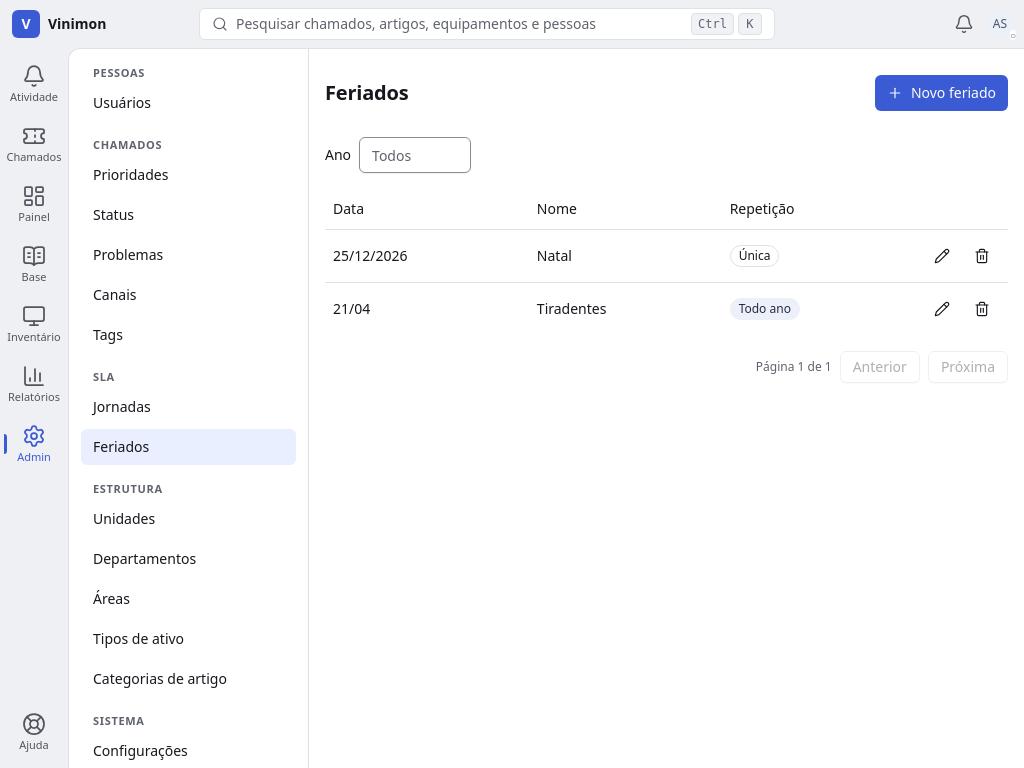
Test case: /admin/feriados › (c) 400 com detalhes aparece no campo
This screenshot has width=1024, height=768.
Click the button named "Editar Natal": (942, 256) [924,238,960,274]
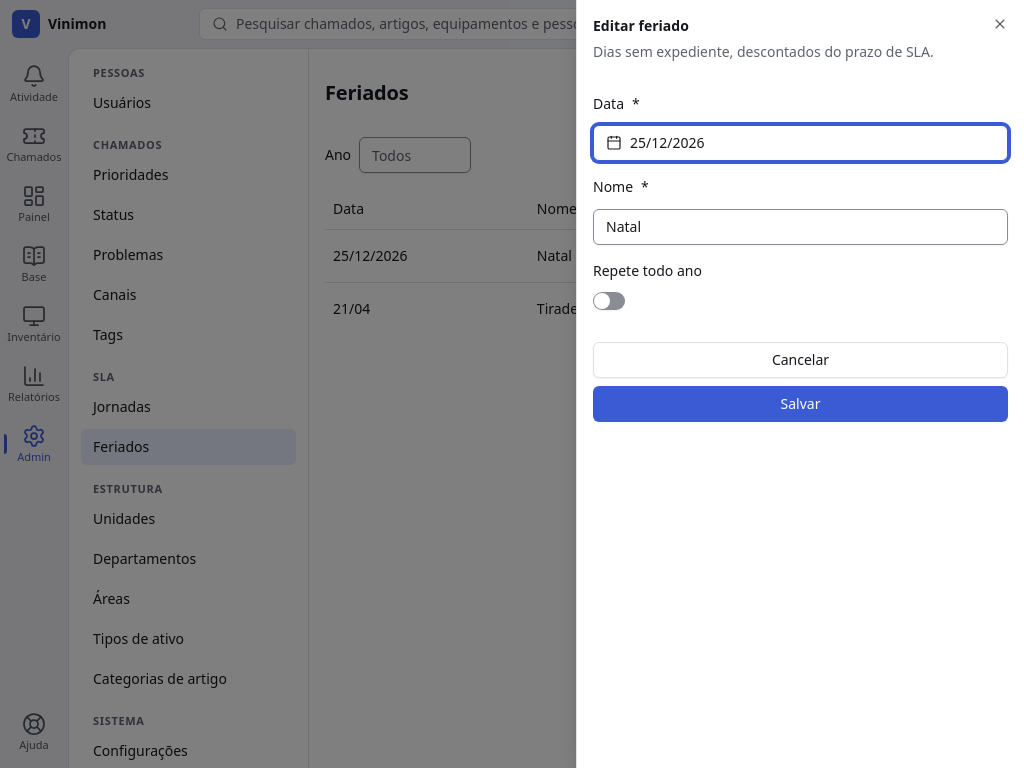
expect the field labelled "Nome *" is shown: met, box [593,208,1008,244]
Click the button "Salvar": (800, 404) [593,386,1008,422]
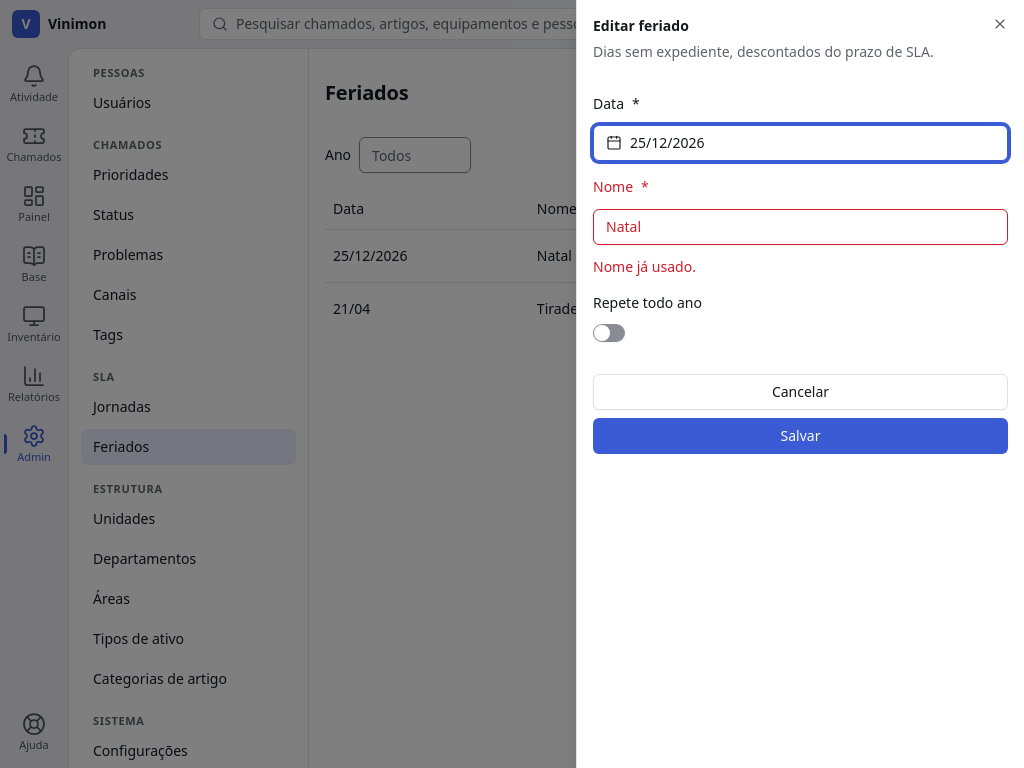
expect the text "Nome já usado." is shown: met, box [593,256,696,276]
